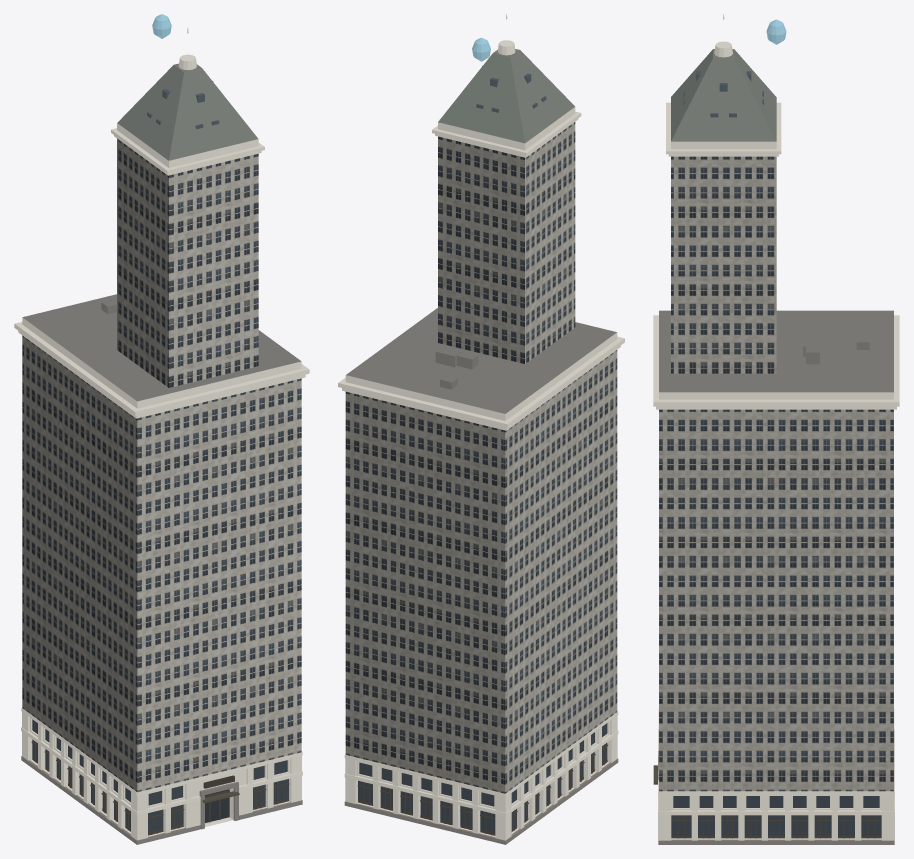
The model's file is smith_tower.glb.
3 views of the same model, side by side, from view 1: azimuth 30°, elevation 25°; view 2: azimuth 150°, elevation 25°; view 3: azimuth 270°, elevation 25° (orthographic). The views are drawn at different scales.
Parts seen in each view (by area): view 1: smith_tower; view 2: smith_tower; view 3: smith_tower.
Part boxes in pixels (x1,y1,x2,y2): smith_tower: (14,14,309,844); smith_tower: (338,14,624,844); smith_tower: (653,14,899,844).
Size of the model in its own units: 35 by 148 by 42.
Materials: 2 (2 with a texture image).
